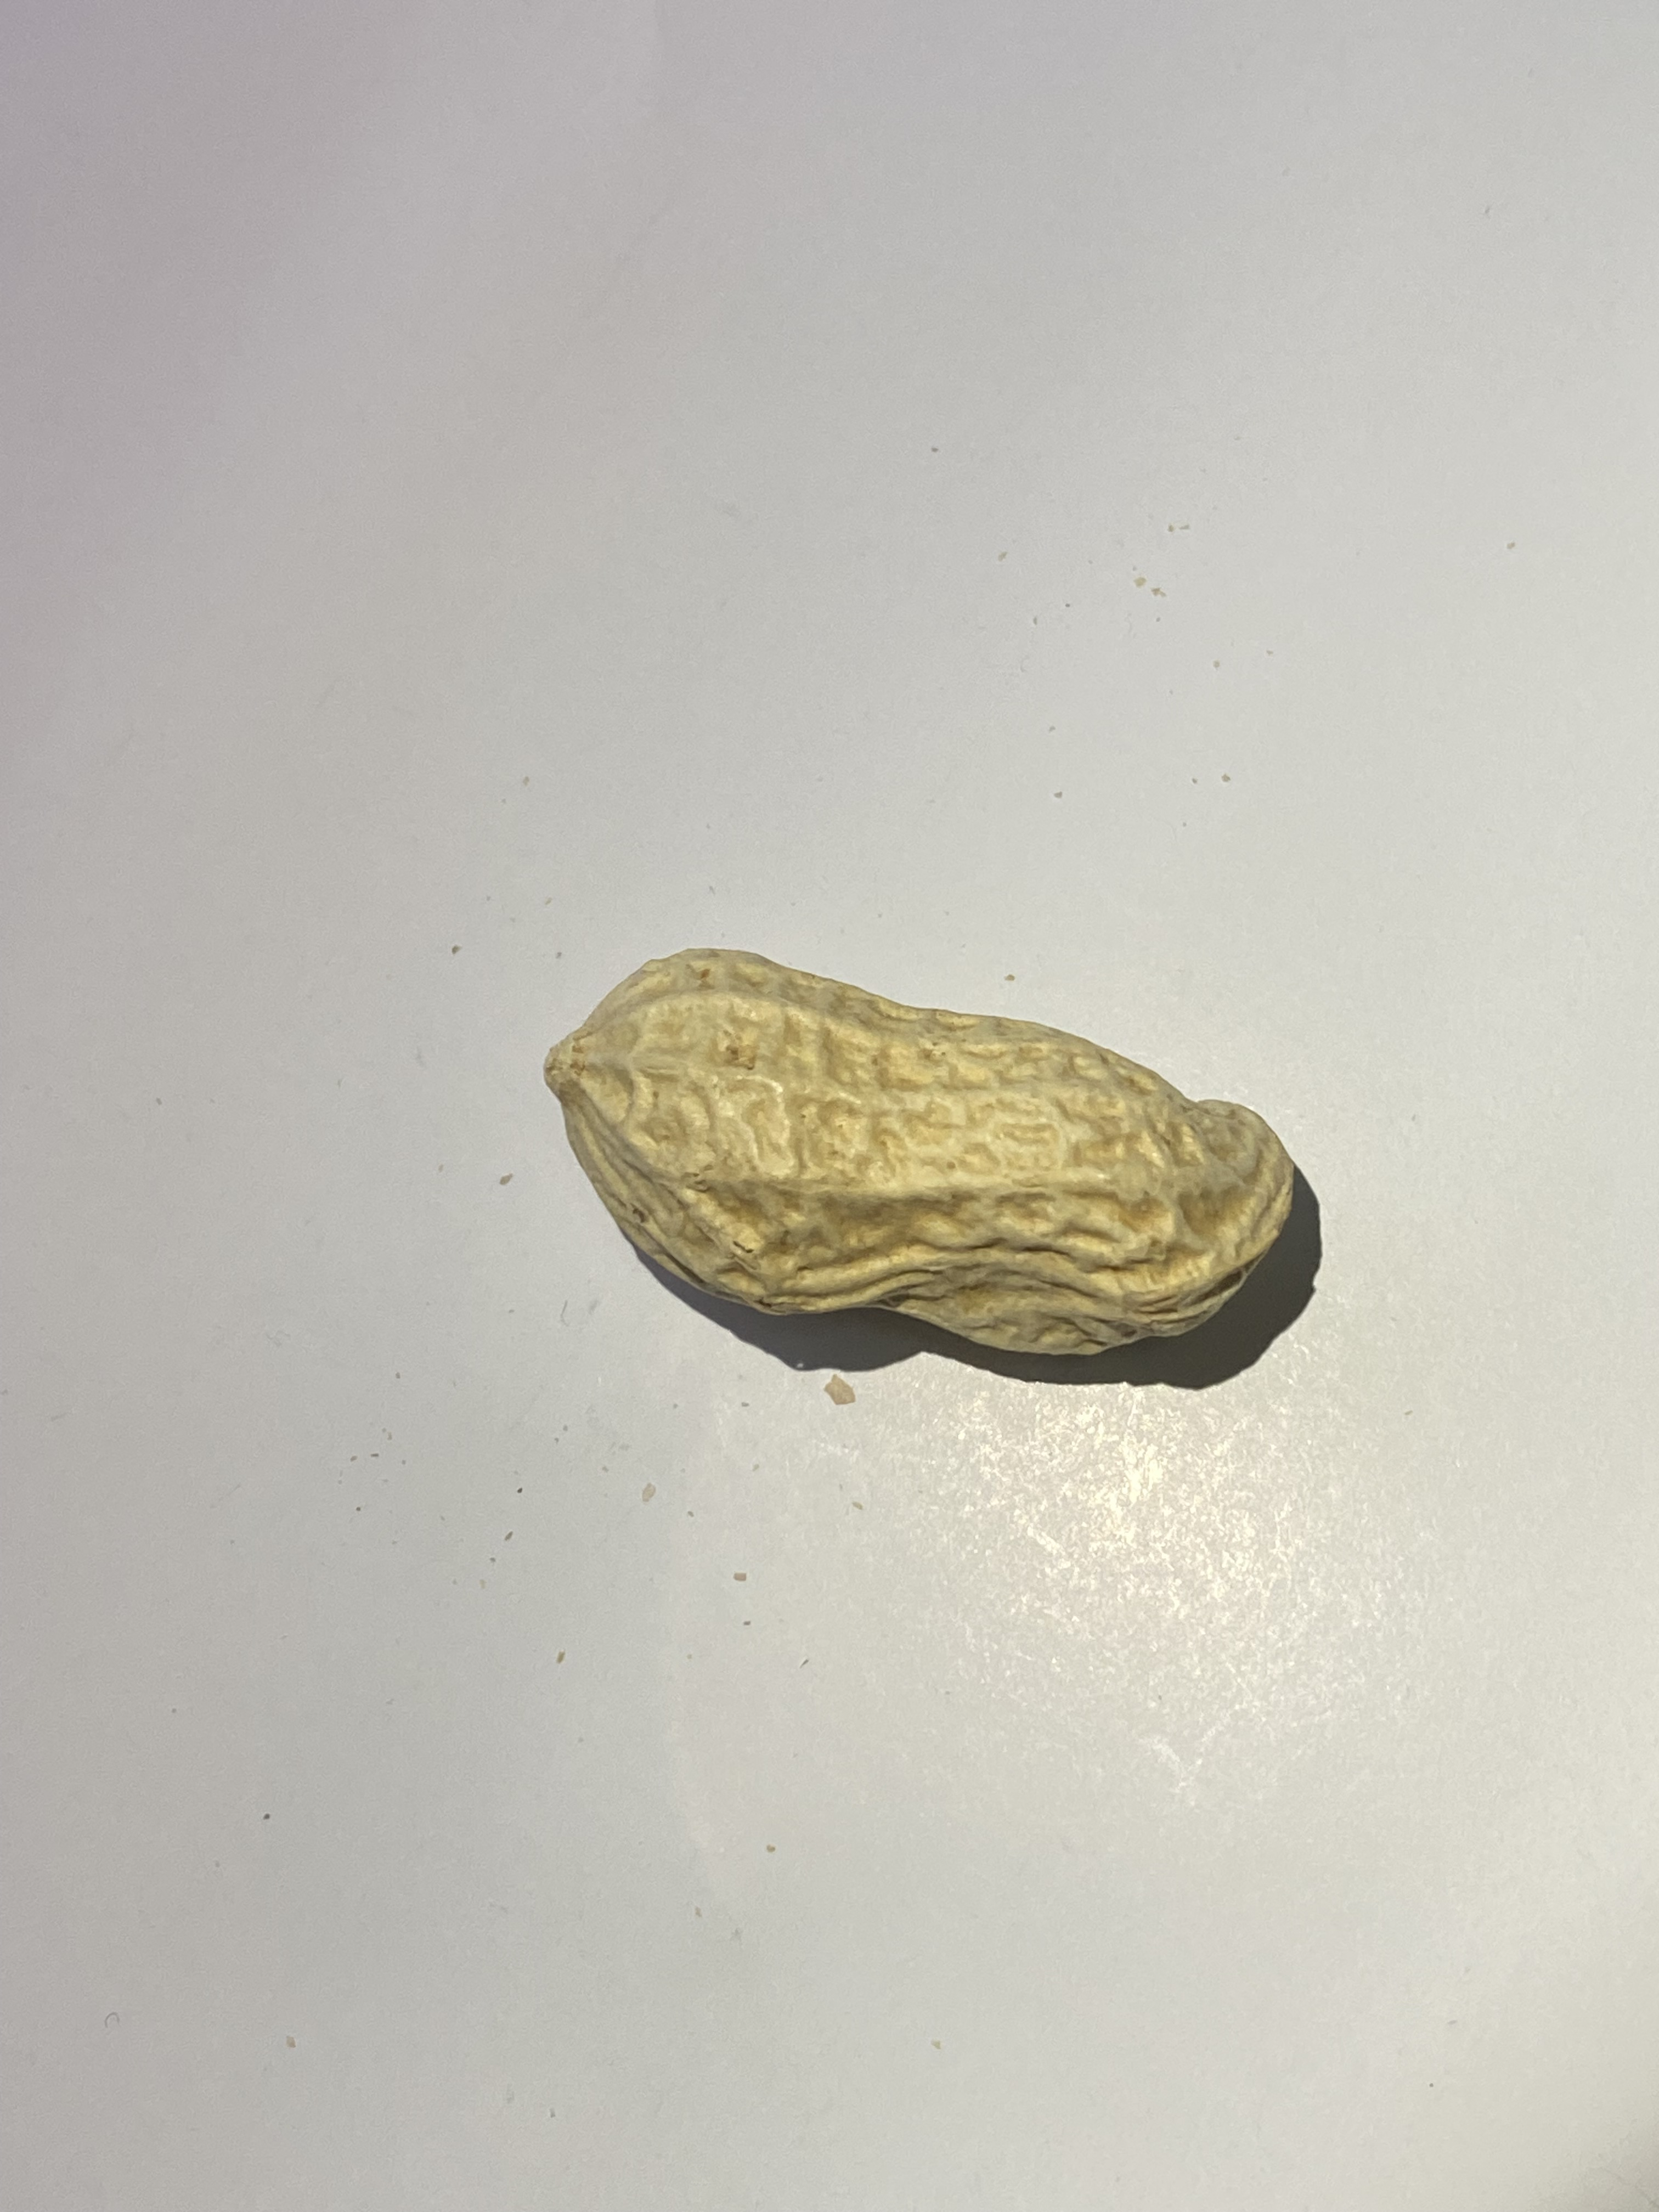kacang2: (491, 932, 1331, 1393)
